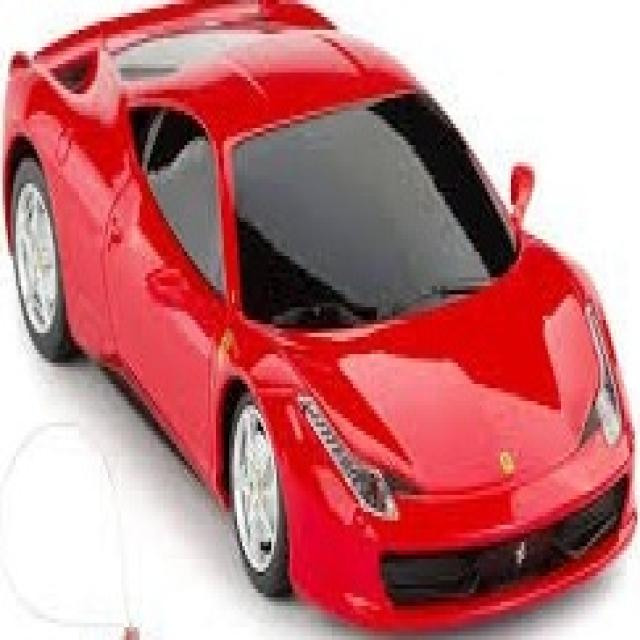red: (2, 0, 638, 618)
